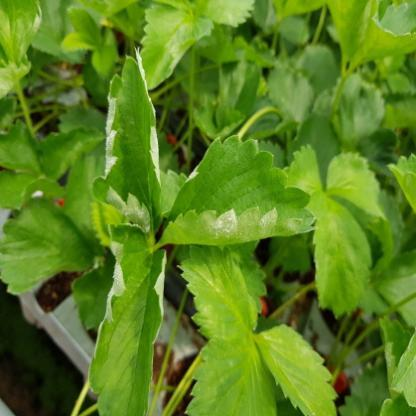Strawberry_Powdery_Mildew_Leaf: (158, 135, 318, 246), (87, 222, 168, 415), (90, 46, 162, 236), (380, 316, 414, 394)
